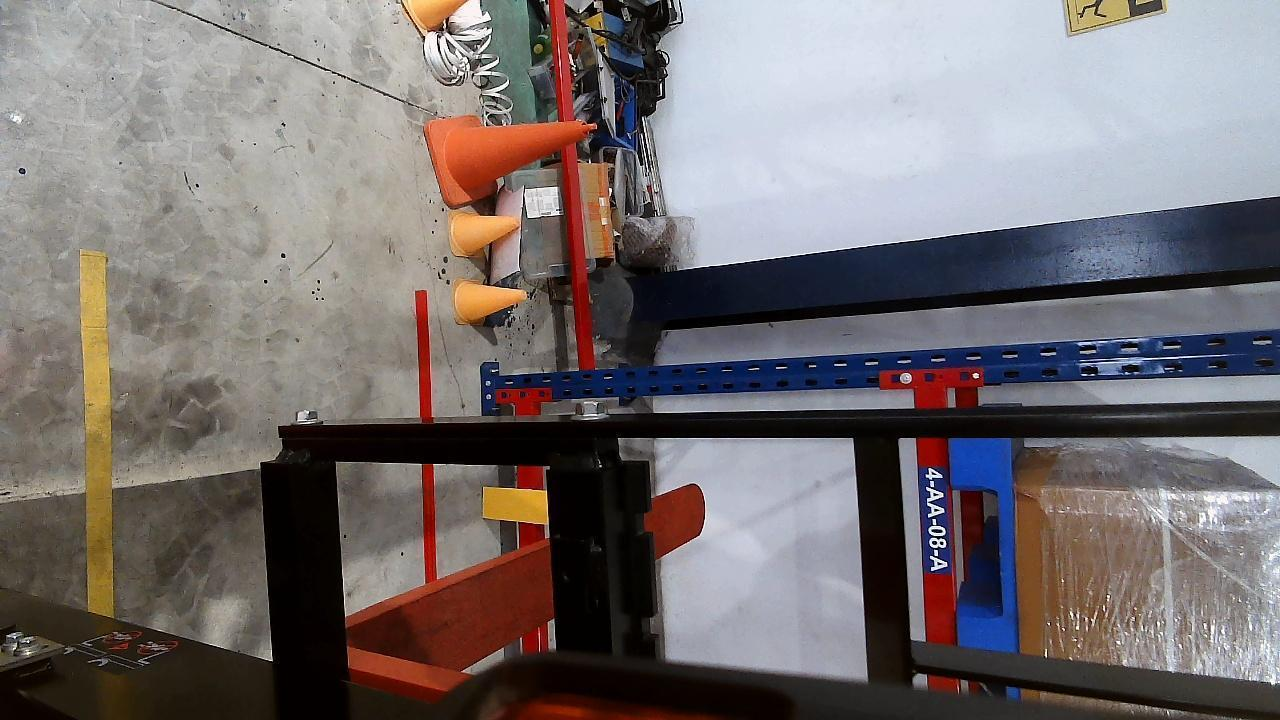red_line: (413, 289, 433, 580)
yellow_line: (79, 249, 113, 616)
